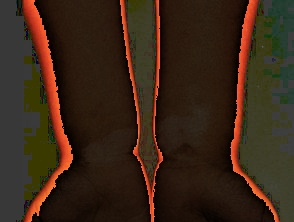vitiligo: (147, 90, 234, 177), (79, 118, 146, 170)
